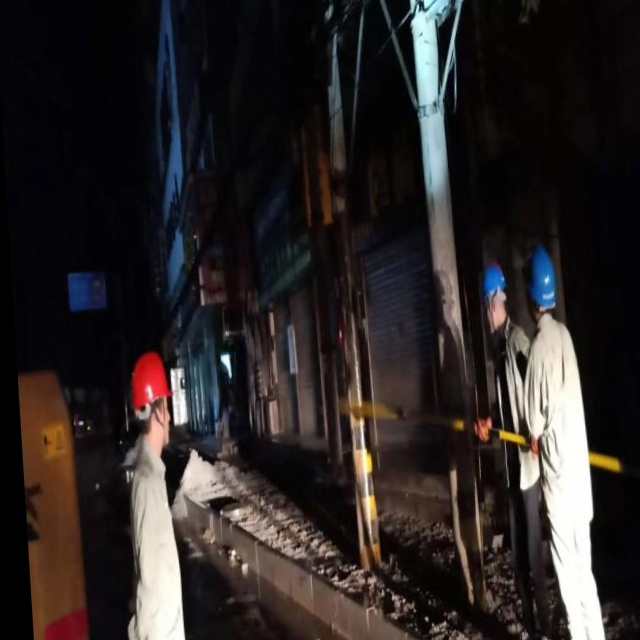Con_Casco: (131, 352, 173, 439), (523, 244, 559, 317)
